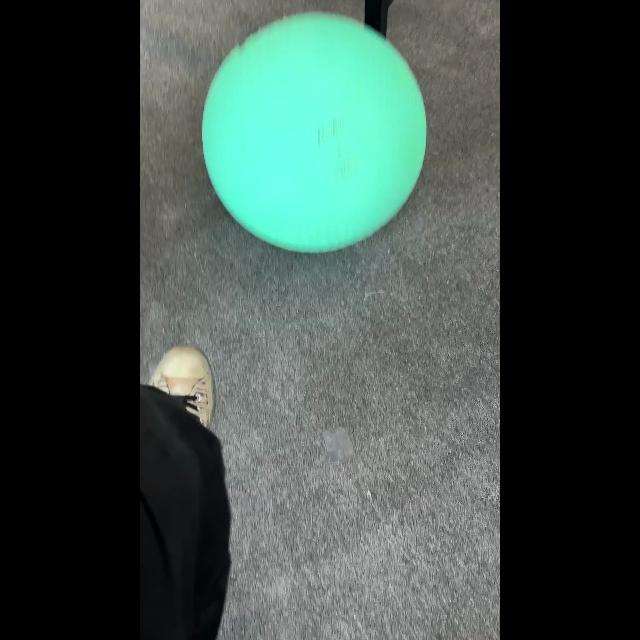ALGAE: (200, 10, 428, 254)
